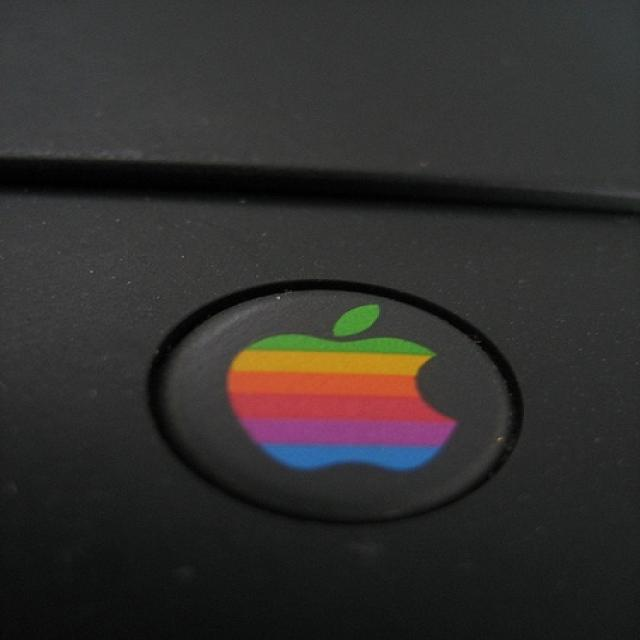apple: (214, 298, 469, 478)
